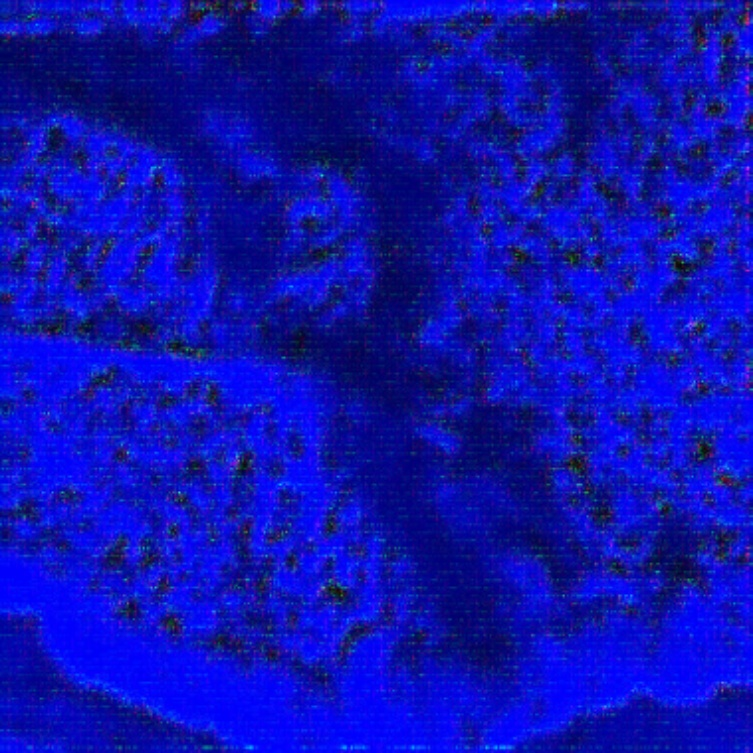rip_current: (201, 42, 608, 667)
